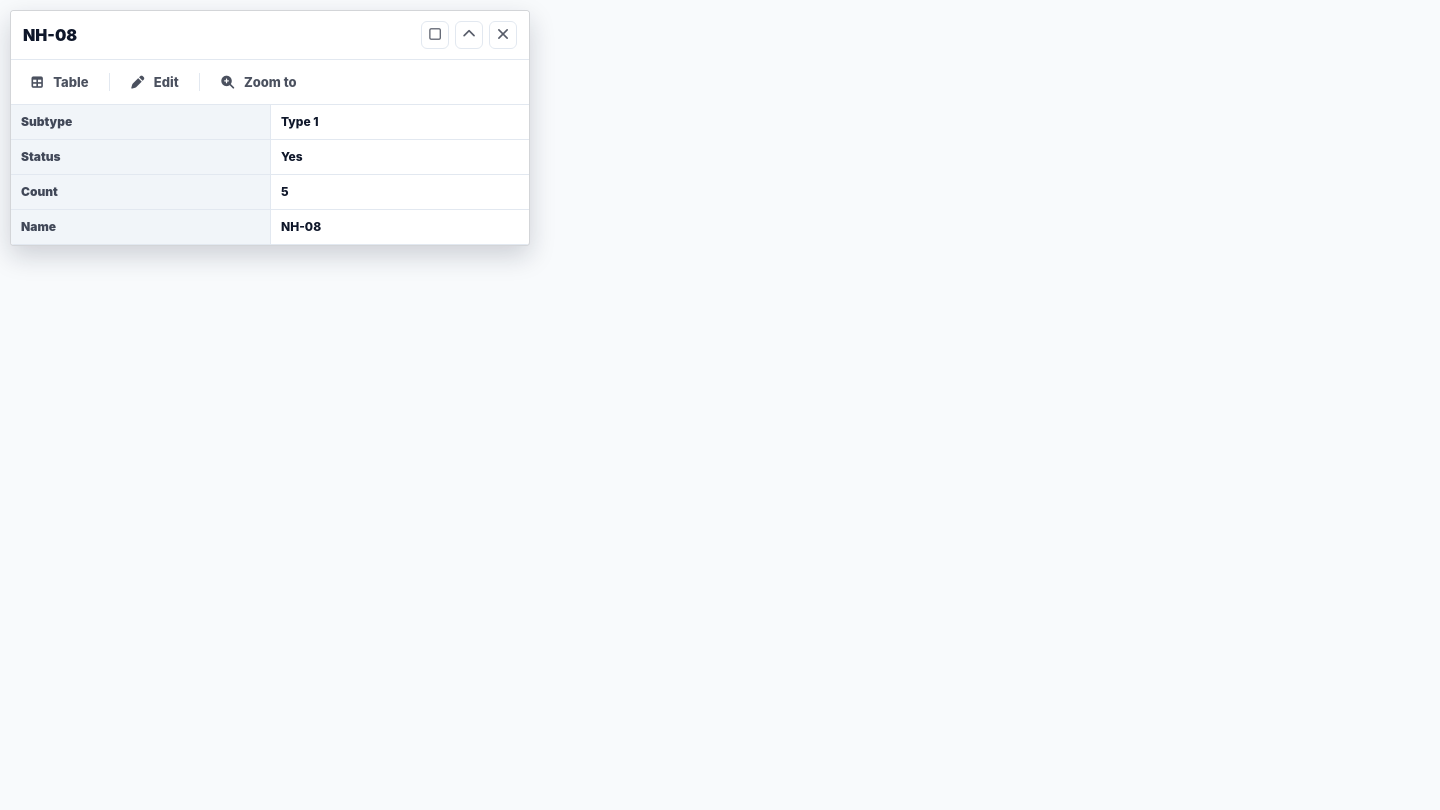
Test: MapPopup › validates required and range constraints on save
Click the button "Edit": (154, 82) 124,68 -> 185,96
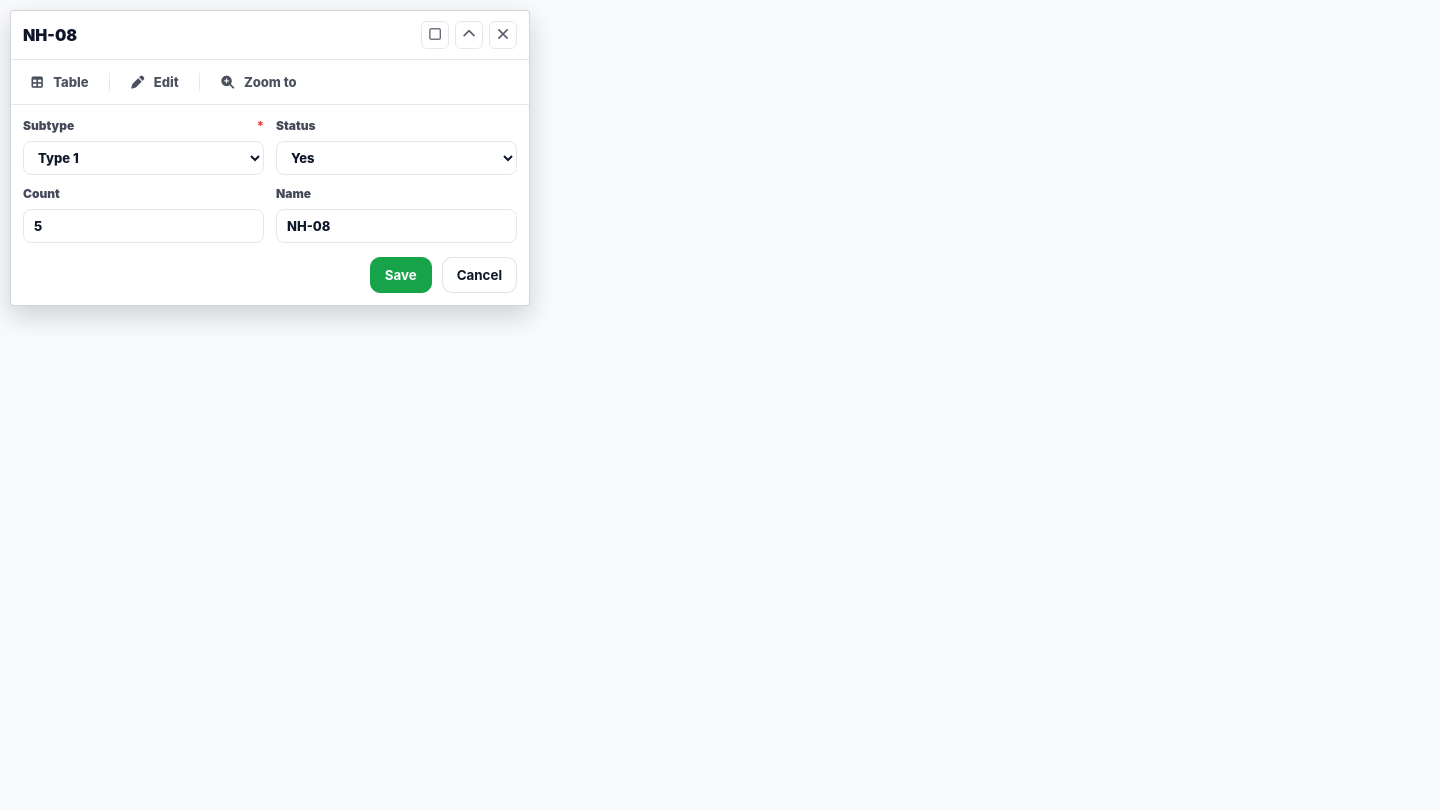
Select "" in the dropdown below "Subtype": (144, 158) 23,141 -> 264,175
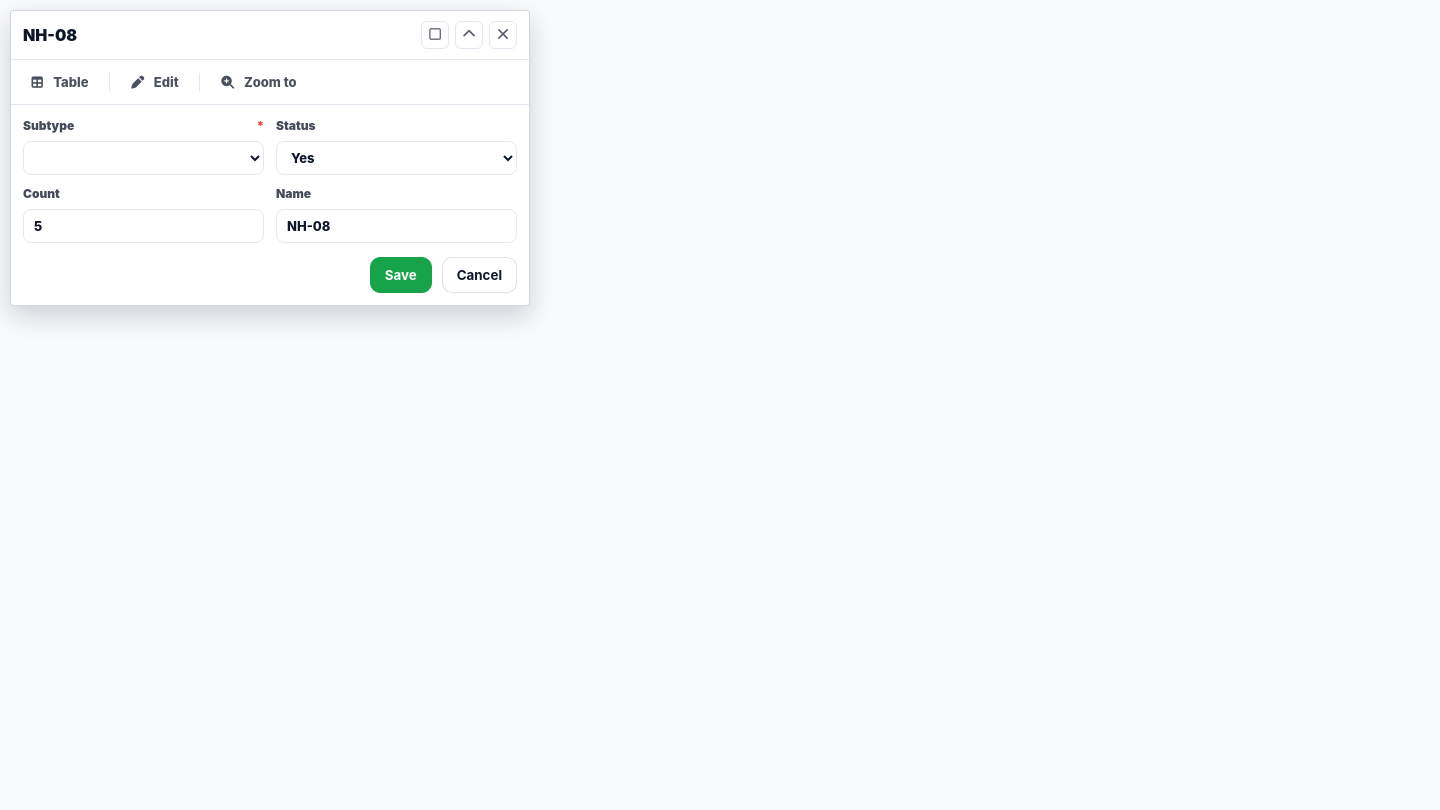
Replace the text in the number field showing "5" with "20": (144, 226) 23,209 -> 264,243
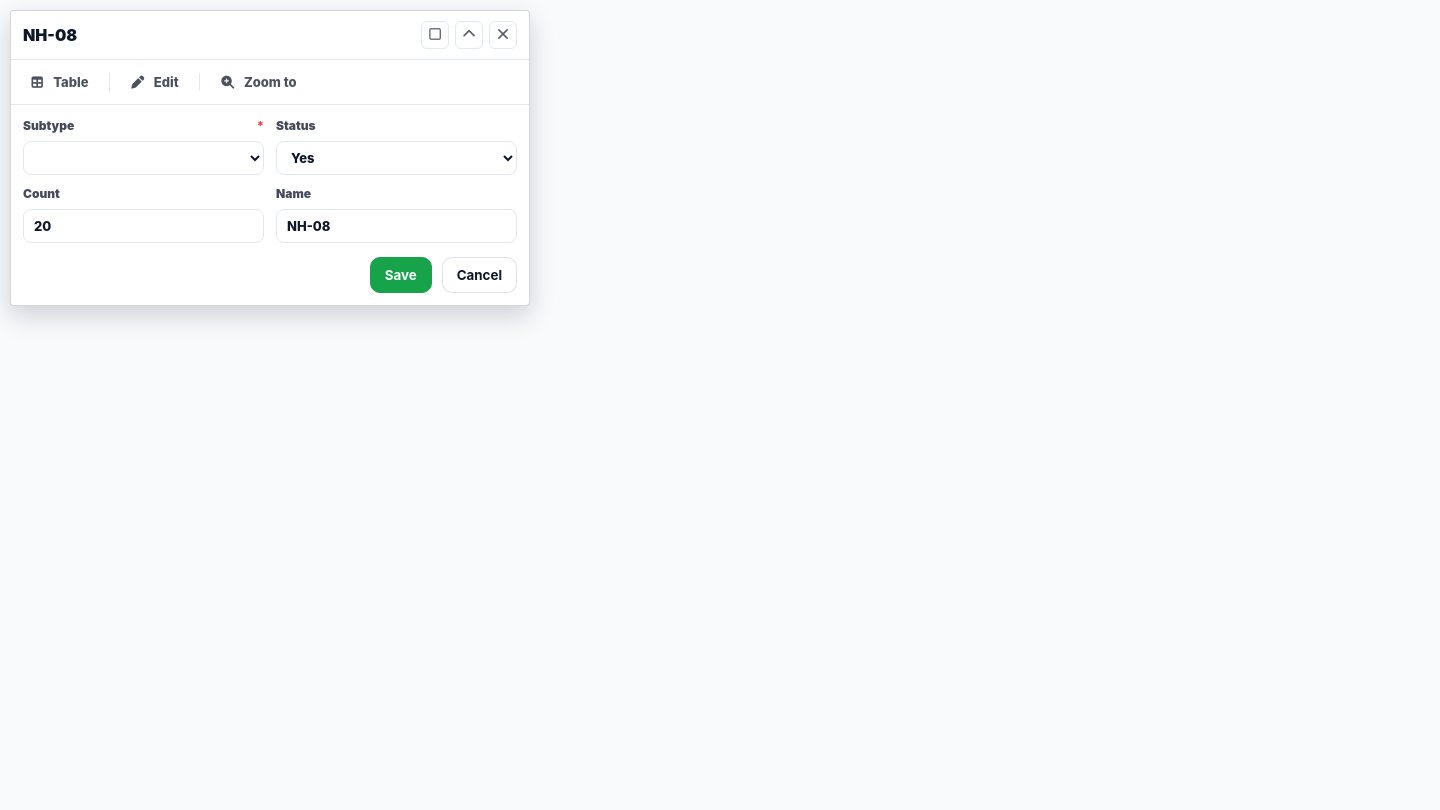
Click the button "Save": (401, 275) 370,257 -> 432,293
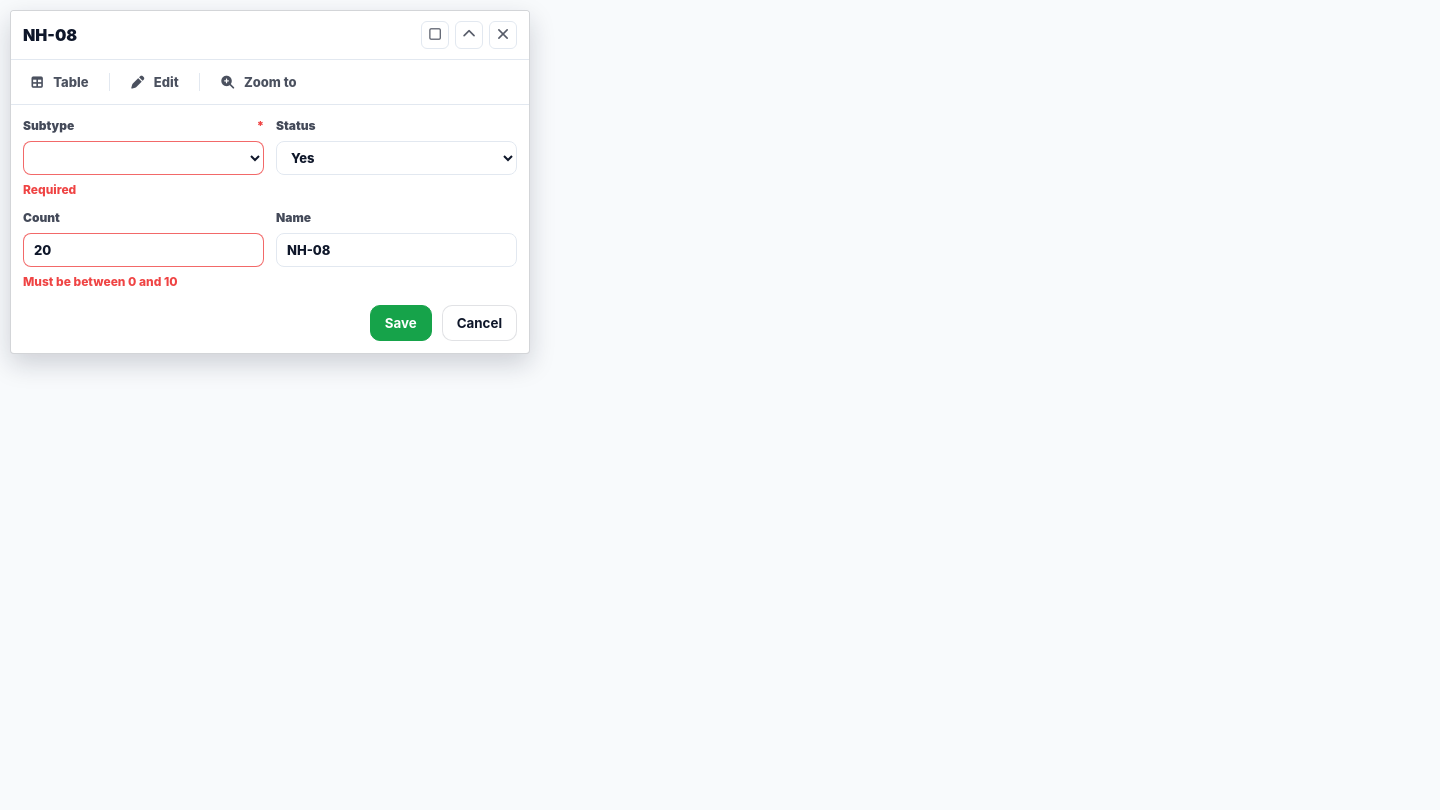
Expected: the text "Required" is shown, 23,182 -> 76,197
Expected: the text "Must be between 0 and 10" is shown, 23,274 -> 178,289
